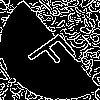F: (25, 25, 86, 77)
